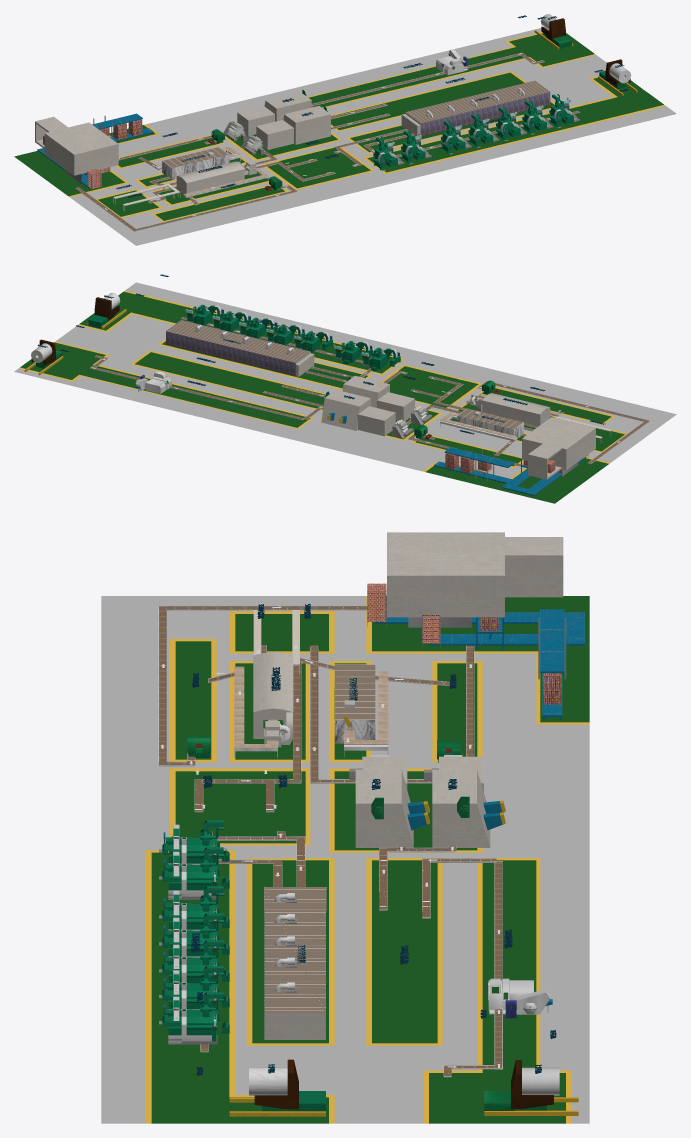
Rendered from factory.gltf.
The picture shows the model from 3 angles, top to bottom: view 1: azimuth 30°, elevation 25°; view 2: azimuth 150°, elevation 25°; view 3: azimuth 270°, elevation 25°; orthographic projection. The views are drawn at different scales.
Parts seen in each view (by area): view 1: ground_new001, zhanbanji, seji, 330qinxiji002, 330neituhongxiang002, 330neituhongxiang, 500neituhongxiang, 500shangliaoji, 330shangliaoji, txt, 330lashenji005, 330lashenji003 (+7 smaller); view 2: ground_new001, zhanbanji, seji, 330qinxiji002, 330neituhongxiang002, 330neituhongxiang, 500neituhongxiang, 330shangliaoji, 500shangliaoji, 330lashenji006, txt, 330lashenji004 (+6 smaller); view 3: ground_new001, zhanbanji, 330neituhongxiang002, seji, 330qinxiji002, 330neituhongxiang, 500neituhongxiang, 330shangliaoji, 500shangliaoji, 330lashenji, 330lashenji005, txt (+6 smaller).
Part boxes in pixels (left/top/right/bottom): ground_new001: left=14, top=27, right=676, bottom=245; zhanbanji: left=35, top=113, right=153, bottom=191; seji: left=223, top=89, right=330, bottom=154; 330qinxiji002: left=401, top=80, right=550, bottom=136; 330neituhongxiang002: left=75, top=52, right=580, bottom=231; 330neituhongxiang: left=176, top=161, right=268, bottom=197; 500neituhongxiang: left=155, top=146, right=240, bottom=179; 500shangliaoji: left=534, top=14, right=573, bottom=49; 330shangliaoji: left=598, top=59, right=637, bottom=95; txt: left=116, top=15, right=628, bottom=197; 330lashenji005: left=401, top=130, right=431, bottom=164; 330lashenji003: left=468, top=113, right=499, bottom=147; ground_new001: left=14, top=282, right=676, bottom=503; zhanbanji: left=434, top=417, right=595, bottom=495; seji: left=321, top=376, right=432, bottom=438; 330qinxiji002: left=166, top=320, right=314, bottom=376; 330neituhongxiang002: left=90, top=317, right=649, bottom=467; 330neituhongxiang: left=466, top=392, right=560, bottom=426; 500neituhongxiang: left=440, top=408, right=523, bottom=441; 330shangliaoji: left=87, top=293, right=126, bottom=328; 500shangliaoji: left=24, top=339, right=63, bottom=375; 330lashenji006: left=361, top=347, right=401, bottom=371; txt: left=37, top=274, right=604, bottom=434; 330lashenji004: left=294, top=331, right=333, bottom=352; ground_new001: left=101, top=596, right=589, bottom=1123; zhanbanji: left=367, top=532, right=584, bottom=720; 330neituhongxiang002: left=158, top=606, right=502, bottom=1077; seji: left=349, top=755, right=505, bottom=847; 330qinxiji002: left=264, top=887, right=326, bottom=1039; 330neituhongxiang: left=234, top=652, right=293, bottom=757; 500neituhongxiang: left=334, top=664, right=388, bottom=756; 330shangliaoji: left=229, top=1059, right=325, bottom=1116; 500shangliaoji: left=484, top=1060, right=578, bottom=1115; 330lashenji: left=159, top=992, right=229, bottom=1044; 330lashenji005: left=159, top=847, right=229, bottom=899; txt: left=191, top=604, right=556, bottom=1075.
Size of the model in its own units: 134 by 9.42 by 52.58.
33 materials, 24 textured.
